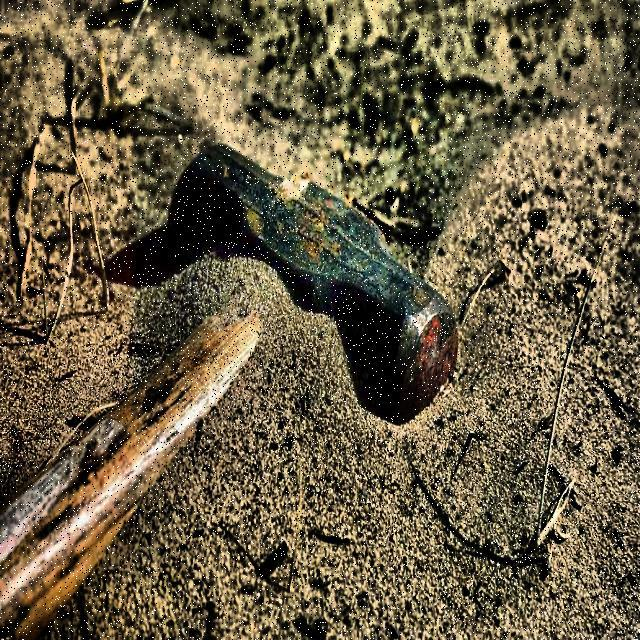hammer: (0, 142, 459, 640)
